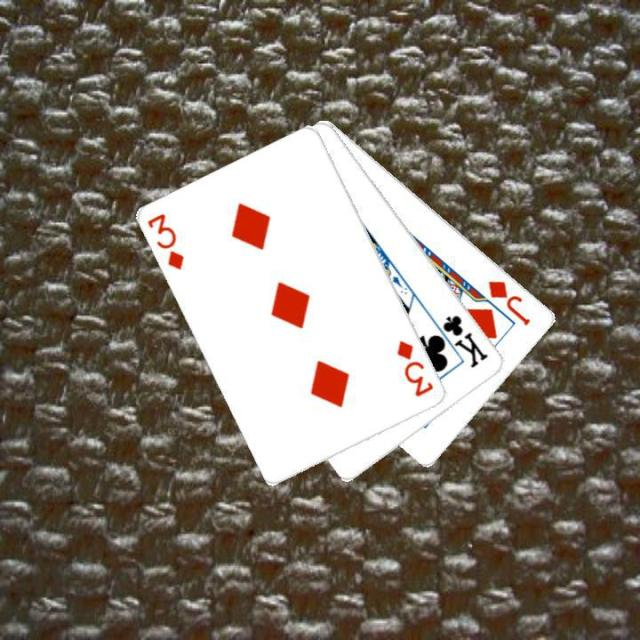3D: (143, 209, 187, 272), (393, 336, 436, 399)
JD: (484, 277, 534, 327)
KC: (428, 311, 491, 370)
